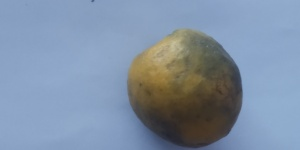BAD: (125, 24, 251, 150)
